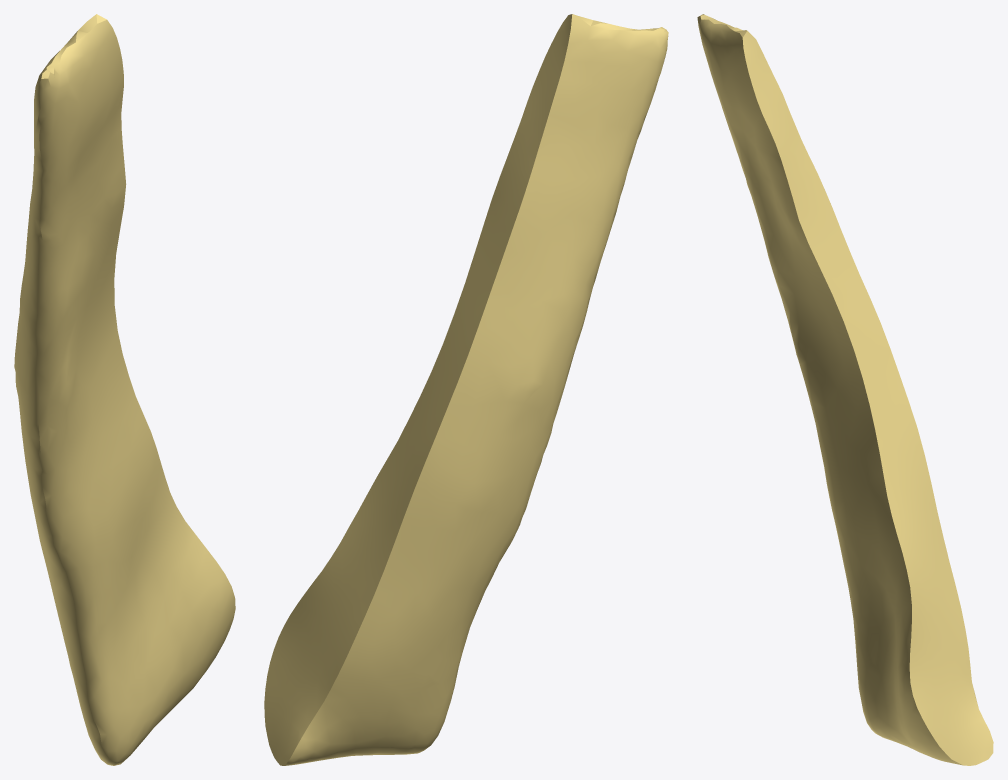
The model's file is fma73583_mm3540.glb.
The picture shows the model from 3 angles, left to right: view 1: azimuth 30°, elevation 25°; view 2: azimuth 150°, elevation 25°; view 3: azimuth 270°, elevation 25°; orthographic projection. The views are drawn at different scales.
Visible parts, largest first — view 1: FMA73583_MM3540; view 2: FMA73583_MM3540; view 3: FMA73583_MM3540.
Part boxes in pixels (<box>): FMA73583_MM3540: <box>14,14,235,765</box>; FMA73583_MM3540: <box>264,14,668,765</box>; FMA73583_MM3540: <box>697,14,993,765</box>.
Size of the model in its own units: 0.00457 by 0.011 by 0.00444.
